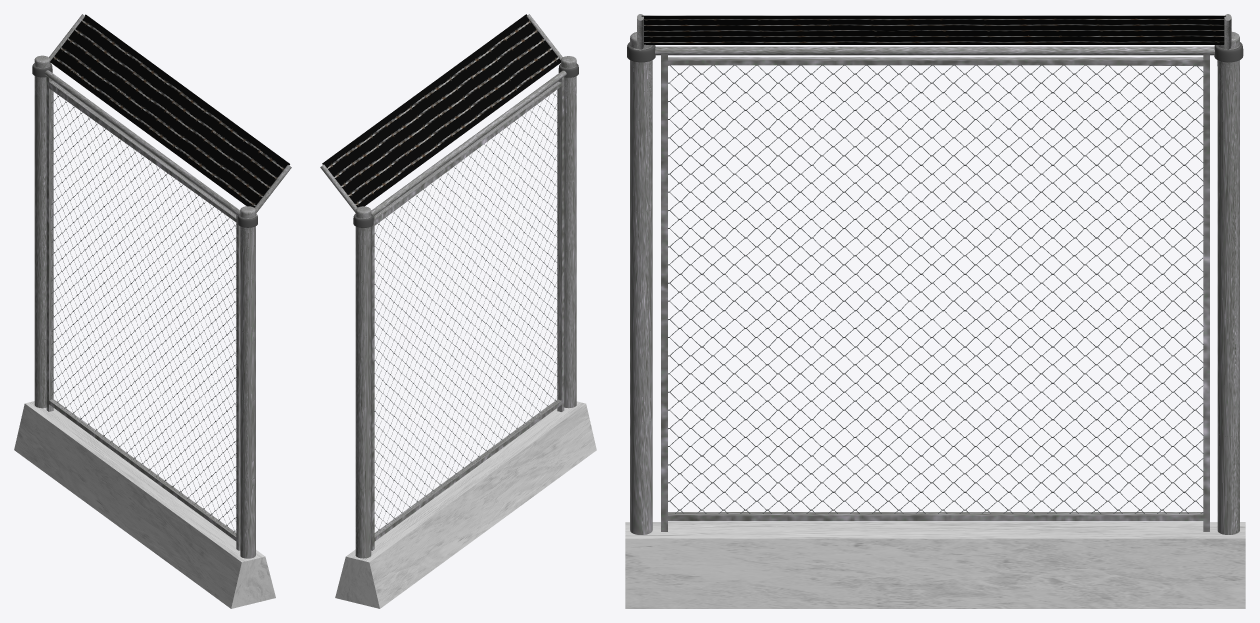
Rendered from Barrier.fbx.
3 views of the same model, side by side, from view 1: azimuth 30°, elevation 25°; view 2: azimuth 150°, elevation 25°; view 3: azimuth 270°, elevation 25° (orthographic). The views are drawn at different scales.
Parts seen in each view (by area): view 1: pCube1, pCube4, pCube2, pCube3, pCylinder1, pCylinder4, pCylinder3; view 2: pCube1, pCube4, pCube2, pCube3, pCylinder4, pCylinder1, pCylinder3; view 3: pCube1, pCube2, pCube4, pCube3, pCylinder4, pCylinder1, pCylinder3.
Part boxes in pixels (x1=…): pCube1: x1=14, y1=401, x2=275, y2=608; pCube4: x1=50, y1=14, x2=289, y2=207; pCube2: x1=51, y1=94, x2=236, y2=533; pCube3: x1=46, y1=76, x2=240, y2=550; pCylinder1: x1=237, y1=206, x2=257, y2=558; pCylinder4: x1=32, y1=55, x2=52, y2=408; pCylinder3: x1=44, y1=70, x2=240, y2=215; pCube1: x1=335, y1=401, x2=596, y2=608; pCube4: x1=322, y1=14, x2=560, y2=207; pCube2: x1=374, y1=89, x2=559, y2=532; pCube3: x1=371, y1=77, x2=564, y2=550; pCylinder4: x1=353, y1=206, x2=373, y2=558; pCylinder1: x1=558, y1=56, x2=578, y2=408; pCylinder3: x1=371, y1=70, x2=566, y2=215; pCube1: x1=625, y1=522, x2=1245, y2=608; pCube2: x1=668, y1=65, x2=1203, y2=513; pCube4: x1=641, y1=15, x2=1225, y2=44; pCube3: x1=661, y1=54, x2=1209, y2=531; pCylinder4: x1=1214, y1=32, x2=1243, y2=534; pCylinder1: x1=627, y1=32, x2=655, y2=534; pCylinder3: x1=655, y1=46, x2=1214, y2=55.
Bounding box in the file's own units: 4.49 × 27.75 × 25.69.
